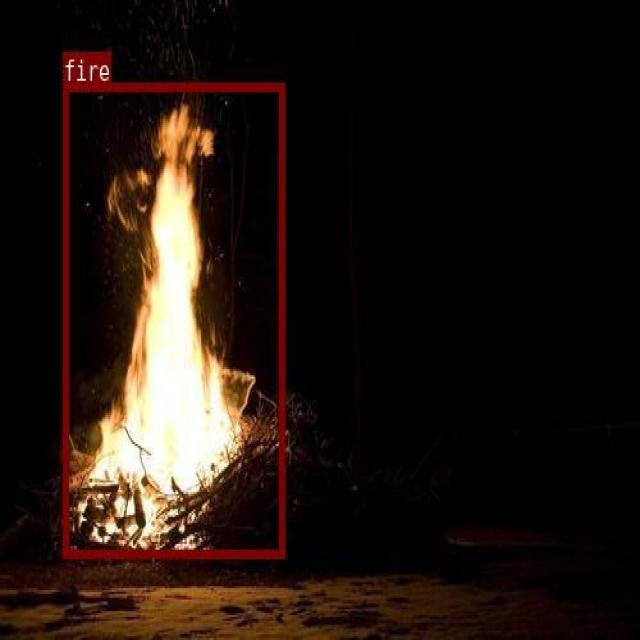fire: (63, 82, 284, 557)
